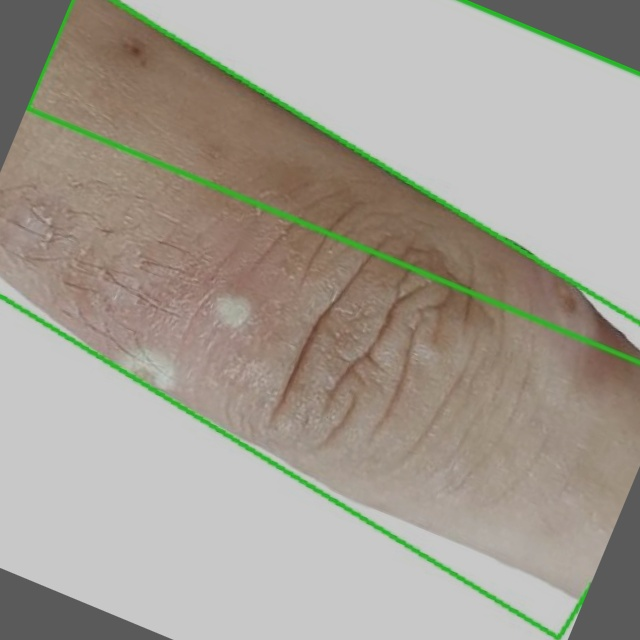Scabies: (0, 0, 639, 637), (27, 0, 639, 361)
